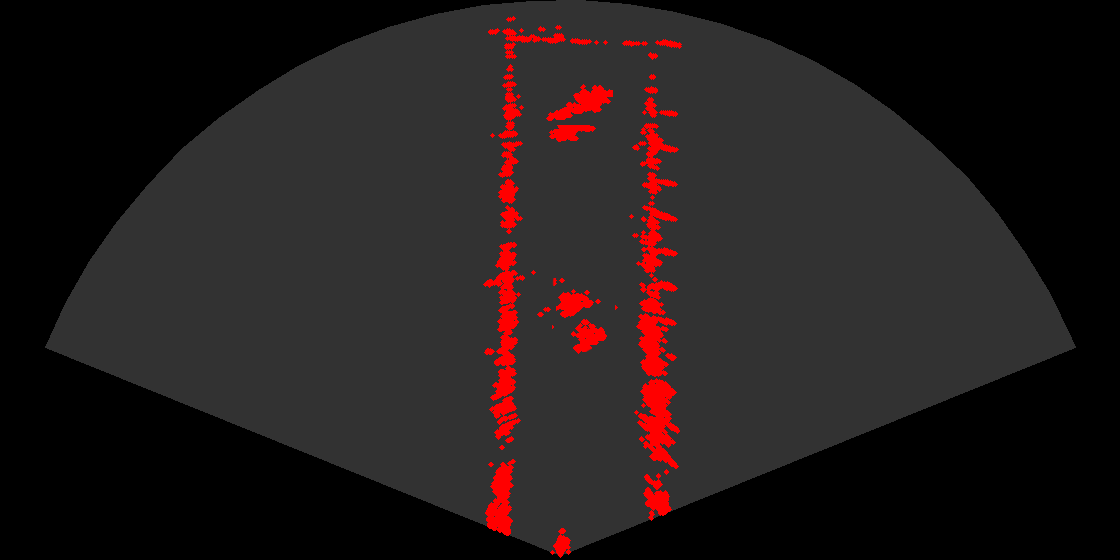AUV: (543, 117, 599, 149)
cage: (552, 278, 615, 362)
frogman: (545, 78, 613, 125)
